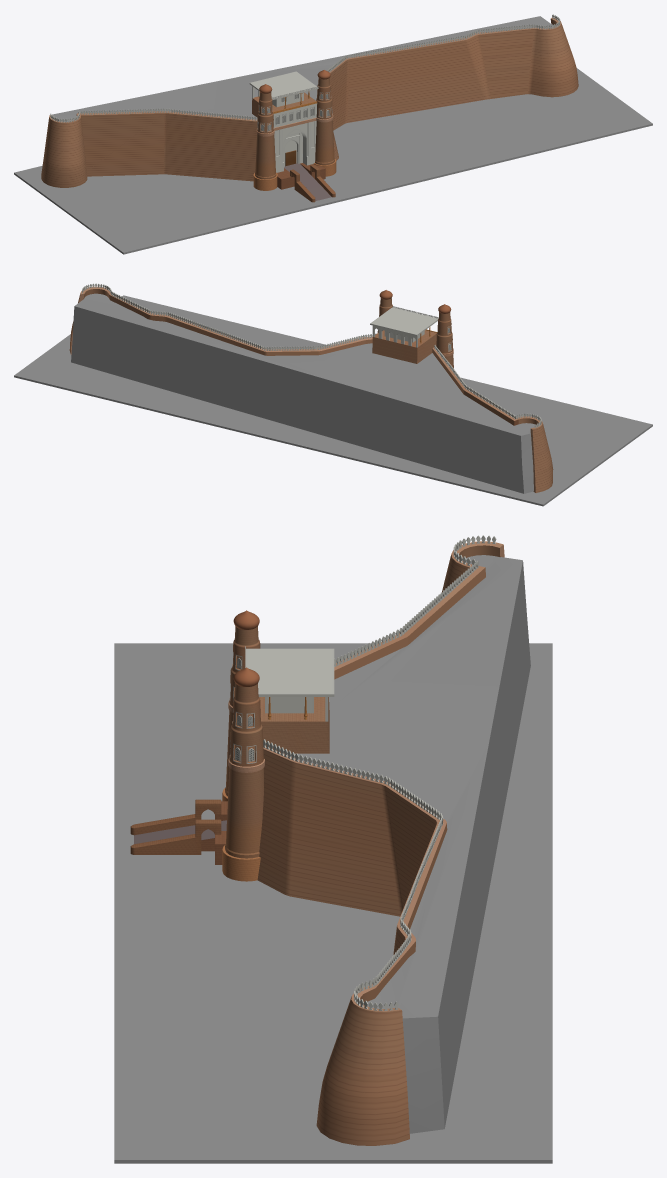
File: Arc.glb
3 renders of one model, top to bottom at view 1: azimuth 30°, elevation 25°; view 2: azimuth 150°, elevation 25°; view 3: azimuth 270°, elevation 25°, orthographic. The views are drawn at different scales.
Parts seen in each view (by area): view 1: pCube46, pCylinder27, pCube47, Arc1_pCylinder14, pCylinder23, polySurface570, pCube41, polySurface581, polySurface560; view 2: pCube47, pCube46, pCylinder27, pCylinder23, polySurface581, Arc1_pCylinder14, polySurface572; view 3: pCube46, pCube47, pCylinder27, Arc1_pCylinder14, polySurface581, polySurface569, polySurface589, pCube41, polySurface606, pCylinder23.
Part boxes in pixels (<box>): pCube46: <box>14,68,652,254</box>; pCylinder27: <box>76,17,578,181</box>; pCube47: <box>52,16,553,121</box>; Arc1_pCylinder14: <box>253,70,336,190</box>; pCylinder23: <box>41,115,87,187</box>; polySurface570: <box>274,120,316,172</box>; pCube41: <box>277,163,331,200</box>; polySurface581: <box>249,71,318,100</box>; polySurface560: <box>273,103,317,127</box>; pCube47: <box>71,293,534,493</box>; pCube46: <box>14,295,652,506</box>; pCylinder27: <box>69,286,518,425</box>; pCylinder23: <box>518,416,553,492</box>; polySurface581: <box>370,307,438,336</box>; Arc1_pCylinder14: <box>377,290,453,368</box>; polySurface572: <box>372,337,417,363</box>; pCube46: <box>114,643,552,1163</box>; pCube47: <box>284,555,530,1133</box>; pCylinder27: <box>257,566,485,1145</box>; Arc1_pCylinder14: <box>222,610,263,881</box>; polySurface581: <box>246,648,334,696</box>; polySurface569: <box>261,721,329,753</box>; polySurface589: <box>130,819,221,854</box>; pCube41: <box>134,801,227,864</box>; polySurface606: <box>130,799,221,835</box>; pCylinder23: <box>442,541,504,592</box>.
Size of the model in its own units: 3.08 by 0.5777 by 1.11.
2 materials, 1 textured.
